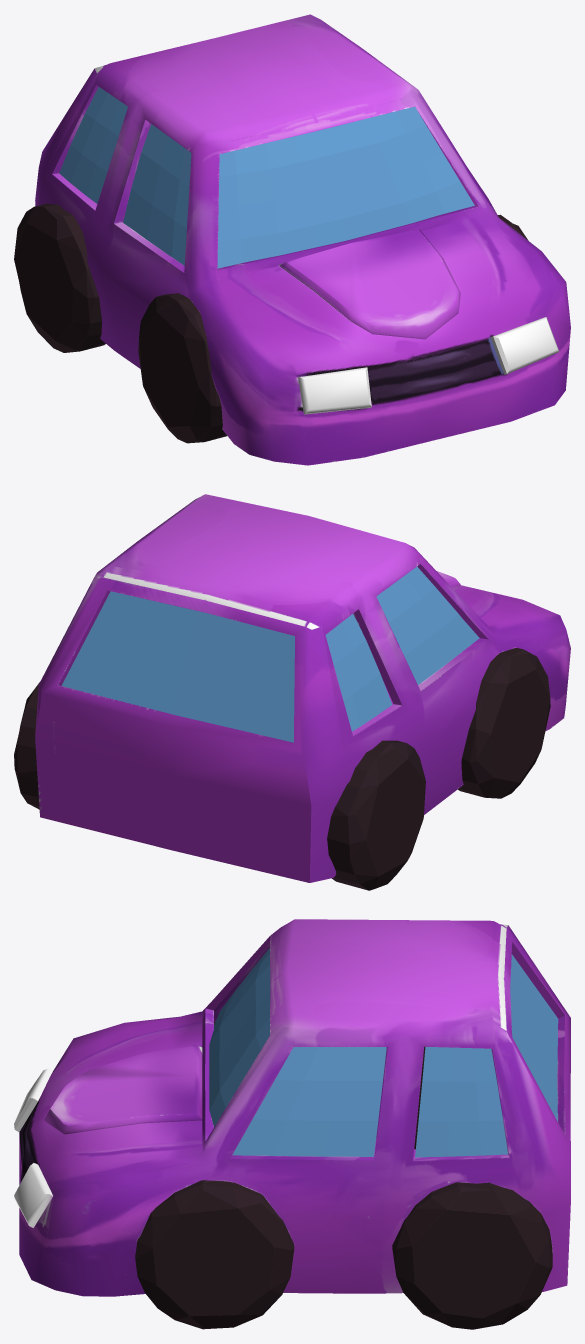
The model's file is purplecarrpro_7.obj.
3 views of the same model, one above another, from view 1: azimuth 30°, elevation 25°; view 2: azimuth 150°, elevation 25°; view 3: azimuth 270°, elevation 25° (orthographic). The views are drawn at different scales.
Parts seen in each view (by area): view 1: Cube.008_Purple_Coated_Glitter, Cube.010_Material.004, Cube.011_Material, Cube.012_Material.005; view 2: Cube.008_Purple_Coated_Glitter, Cube.010_Material.004, Cube.011_Material; view 3: Cube.008_Purple_Coated_Glitter, Cube.011_Material, Cube.010_Material.004, Cube.012_Material.005.
Boxes of the visible parts, x1,y1,x2,y2 form: Cube.008_Purple_Coated_Glitter: (35, 14, 570, 465); Cube.010_Material.004: (59, 87, 474, 268); Cube.011_Material: (14, 203, 528, 443); Cube.012_Material.005: (298, 317, 559, 414); Cube.008_Purple_Coated_Glitter: (35, 494, 570, 882); Cube.010_Material.004: (61, 566, 479, 742); Cube.011_Material: (14, 648, 550, 890); Cube.008_Purple_Coated_Glitter: (19, 919, 570, 1296); Cube.011_Material: (135, 1022, 552, 1329); Cube.010_Material.004: (209, 947, 558, 1157); Cube.012_Material.005: (14, 1068, 52, 1227).
Bounding box in the file's own units: 2.17 × 1.55 × 2.85.
Materials: 4 (4 with a texture image).
